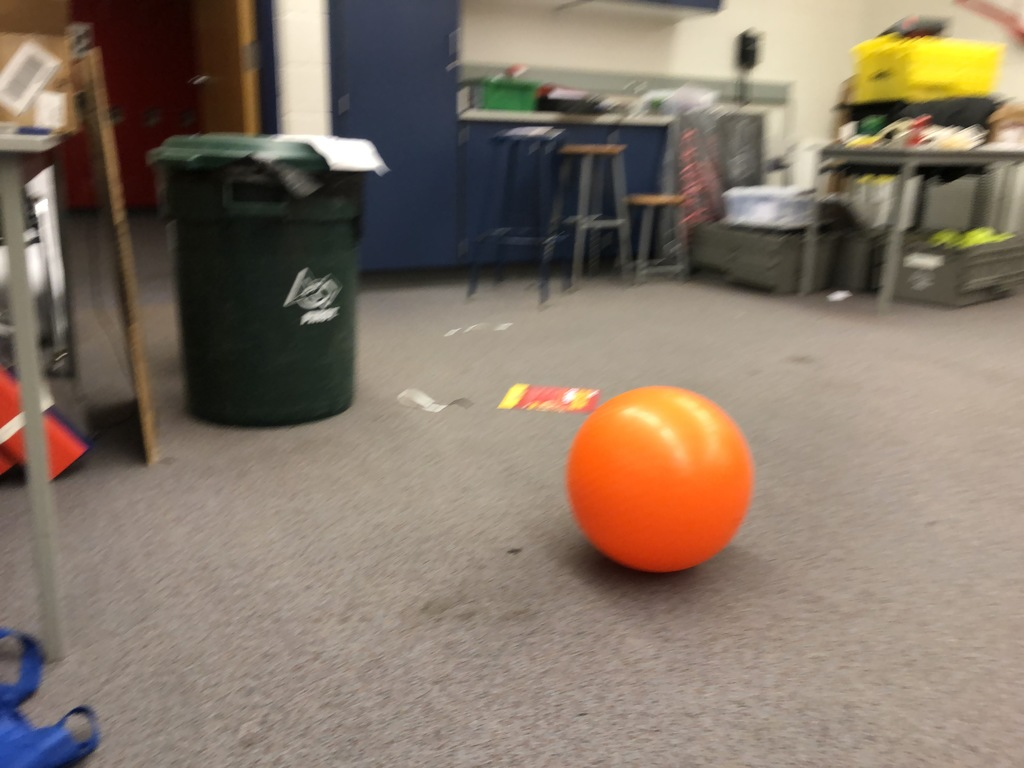cargo: (560, 378, 756, 591)
